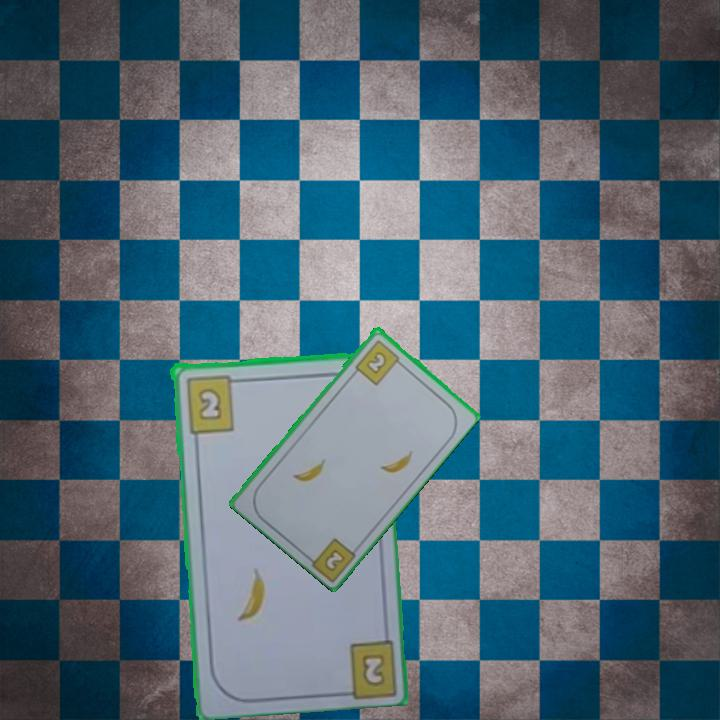2b: (182, 371, 243, 435), (351, 336, 406, 388), (358, 649, 390, 690), (323, 545, 348, 572)
